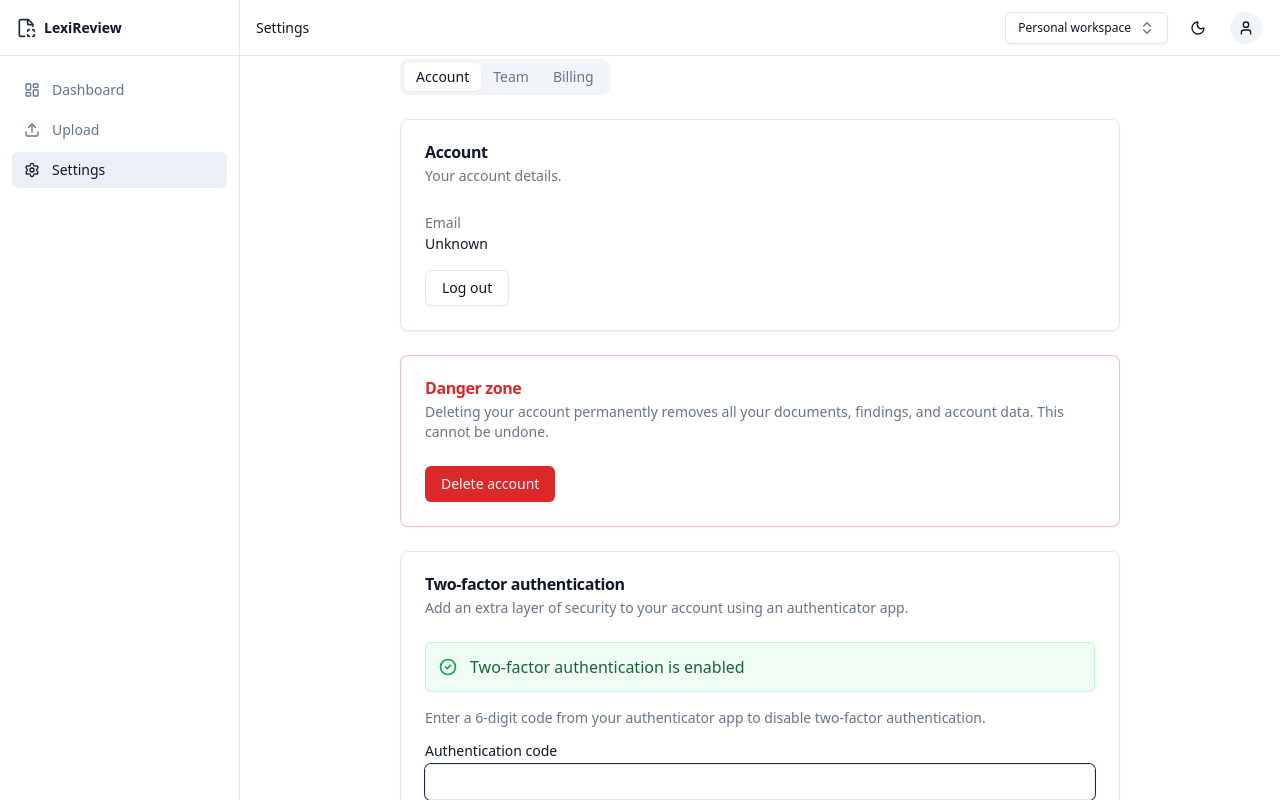
Test: AccountSettingsPage MFA card › a valid disable code disables MFA, shows a success toast, and reverts to the disabled state
(page scrolled)
Expected: the text "Two-factor authentication is enabled" is shown, [470,655,745,679]
Type "654321" into the field labelled "Authentication code" at (760, 782), box [425,764,1095,799]
(page scrolled)
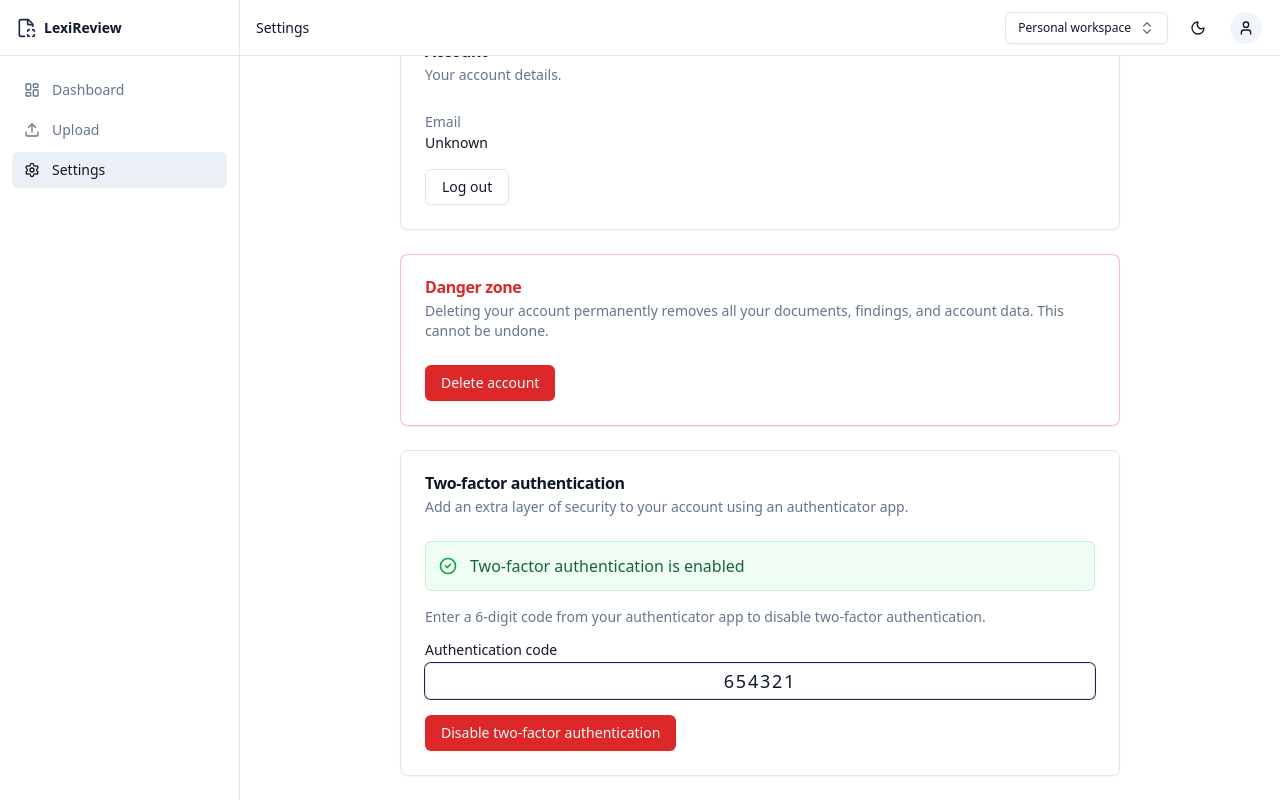
Click the button "Disable two-factor authentication" at (551, 733), box [425,715,676,751]
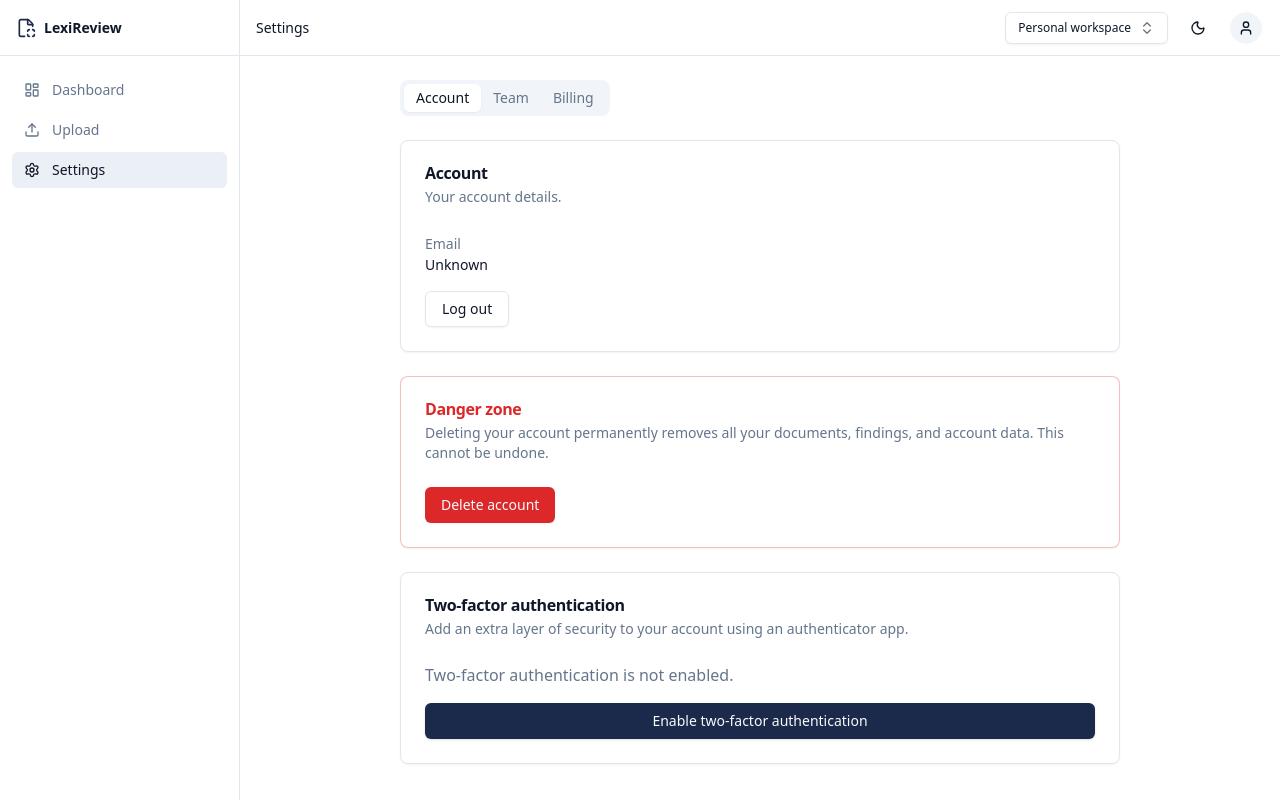
Result: the text "Two-factor authentication is not enabled." is shown at [425,664,734,686]
